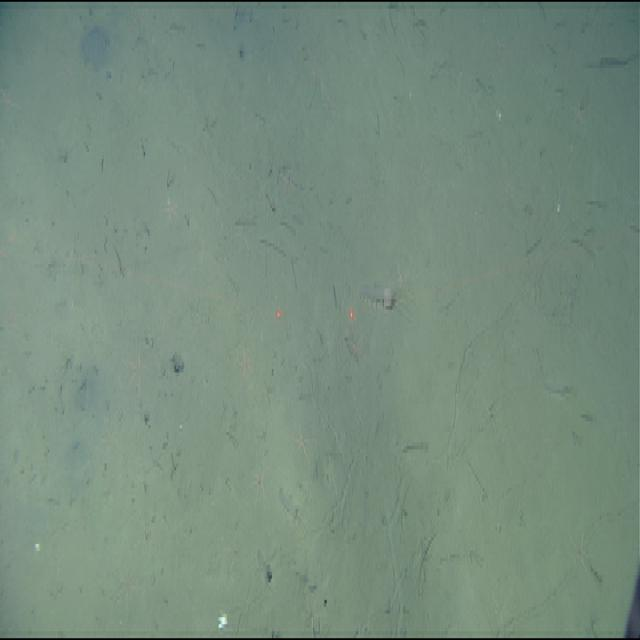Brittle Star: (122, 343, 148, 395), (290, 422, 314, 464), (248, 464, 266, 504)
